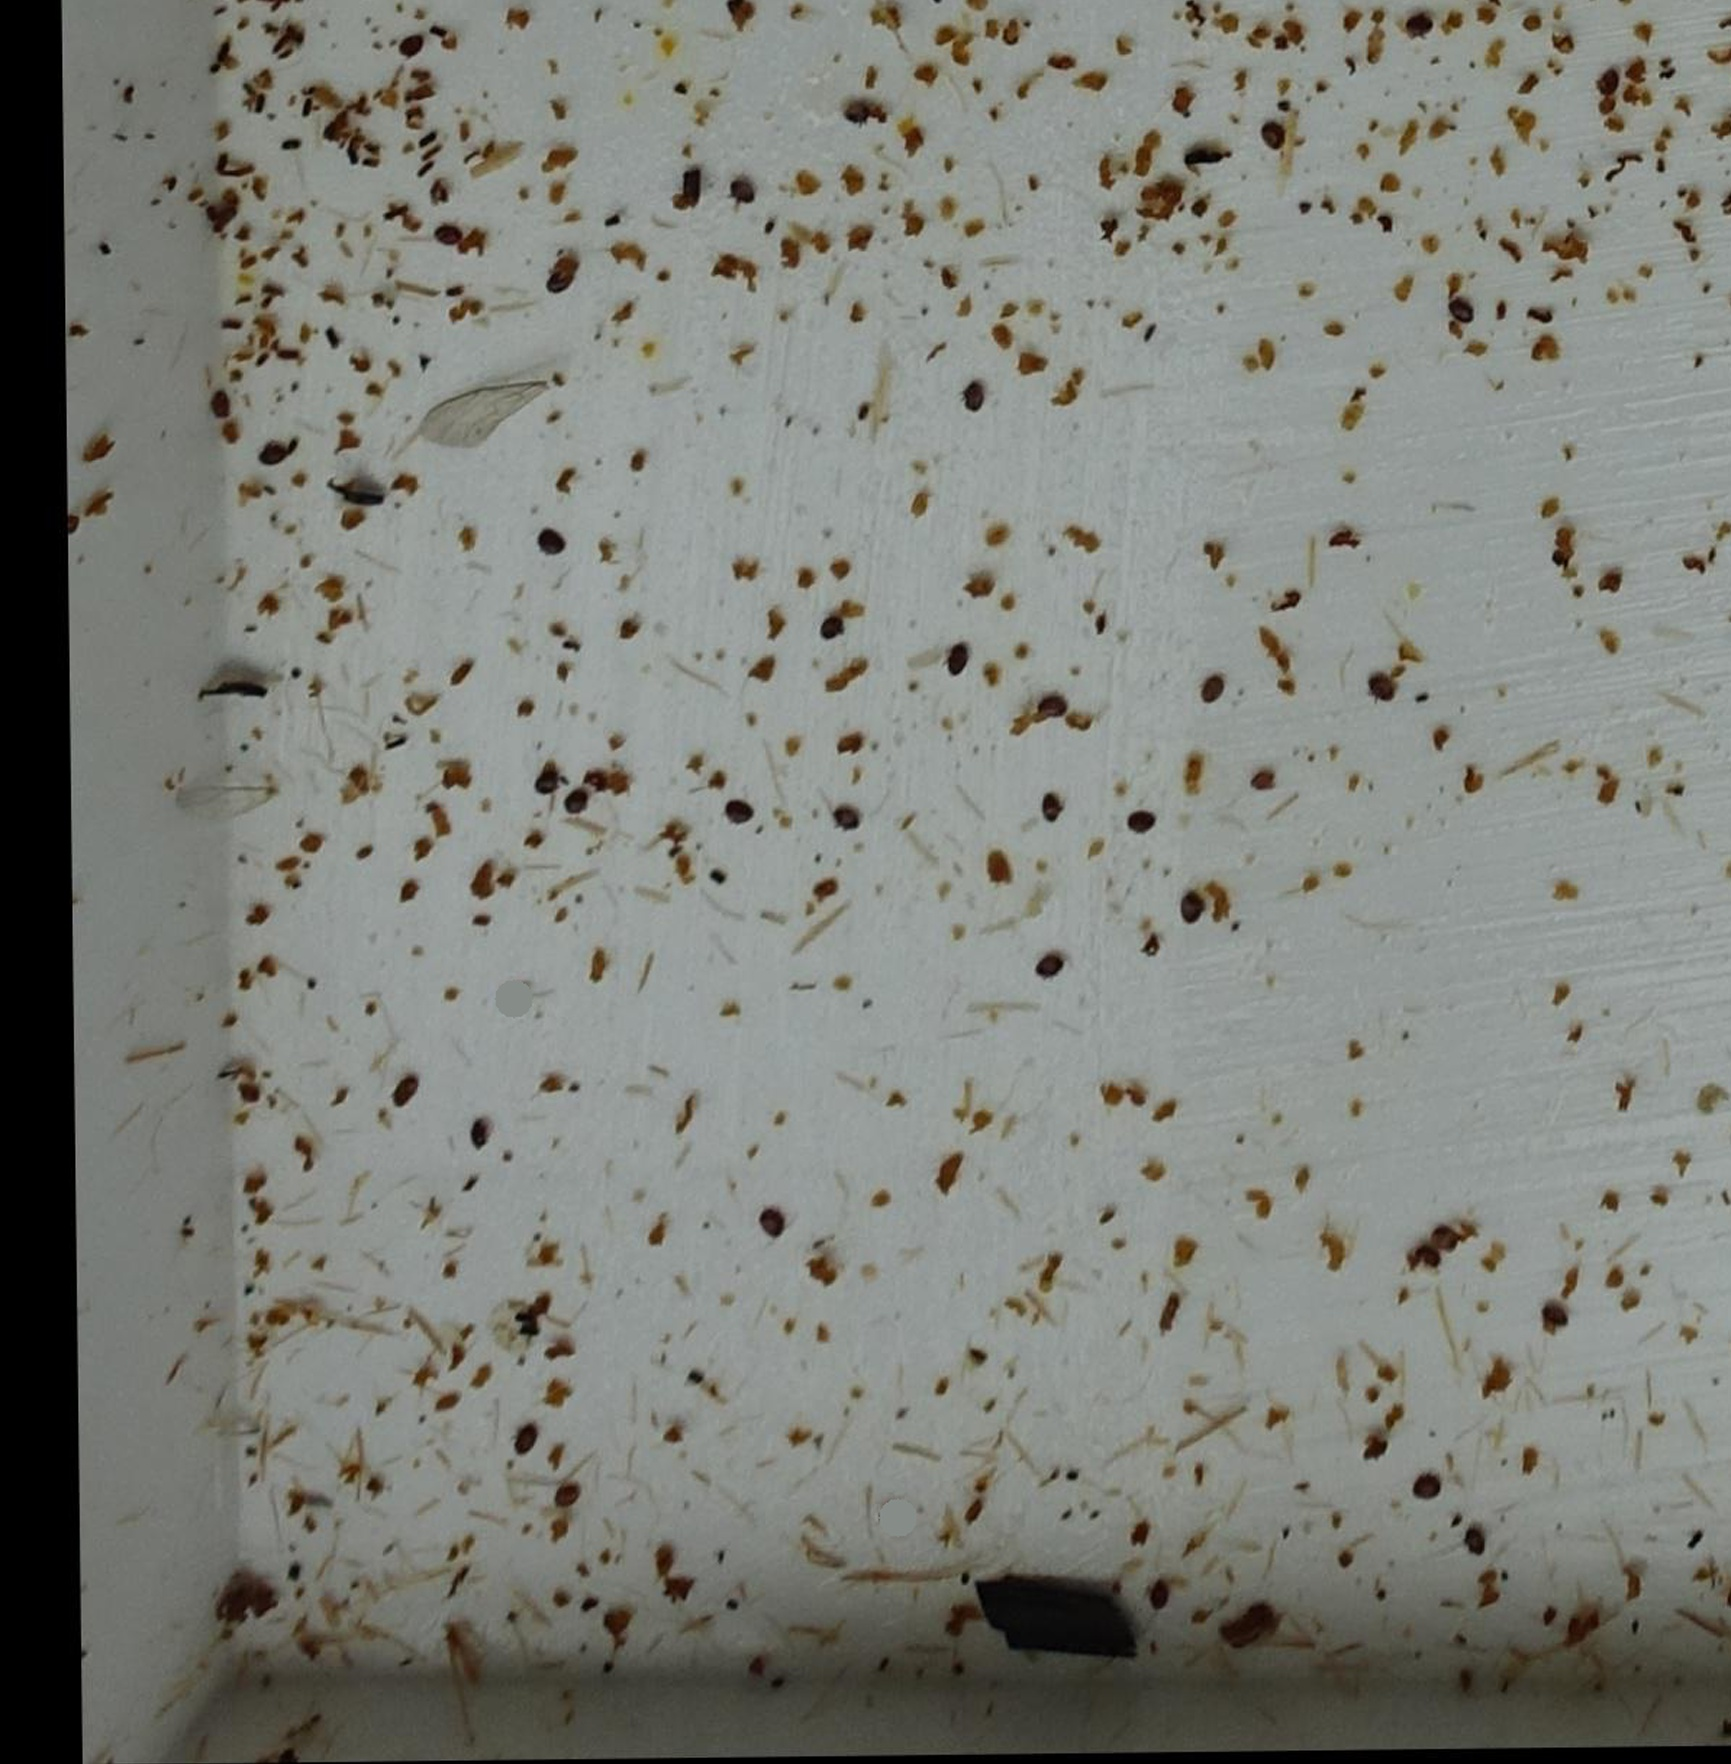Varroa: (835, 94, 880, 136), (198, 385, 243, 428), (1355, 1433, 1400, 1476), (1423, 1216, 1466, 1258), (1030, 951, 1065, 991), (1129, 802, 1164, 835), (1198, 678, 1230, 712), (1178, 894, 1209, 926), (434, 220, 464, 254), (1409, 1236, 1439, 1270), (1366, 672, 1397, 704), (1409, 1472, 1439, 1504), (1593, 70, 1623, 101), (537, 525, 567, 555), (384, 1078, 414, 1108), (533, 769, 563, 799), (1462, 1529, 1487, 1564), (956, 382, 984, 412), (468, 1122, 496, 1152), (258, 444, 288, 472), (1035, 694, 1064, 724), (561, 788, 591, 816), (1404, 13, 1435, 41), (1538, 1304, 1566, 1334), (721, 799, 750, 827), (837, 807, 865, 835), (762, 1211, 791, 1239), (548, 258, 575, 288), (946, 647, 973, 675), (732, 181, 759, 209), (1035, 792, 1062, 821), (1146, 1582, 1173, 1610), (1450, 300, 1477, 328), (509, 1434, 536, 1461), (823, 620, 850, 647), (395, 30, 420, 57), (556, 1483, 582, 1510), (1263, 120, 1289, 147)
